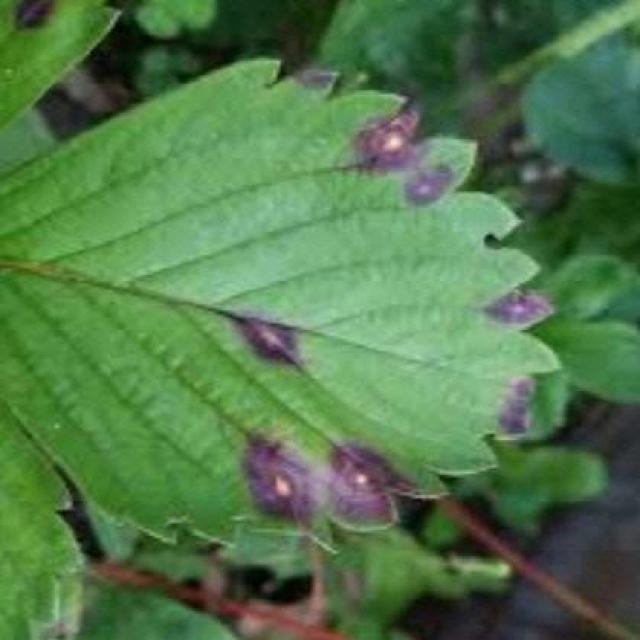Leaf Spot: (0, 57, 570, 556)
